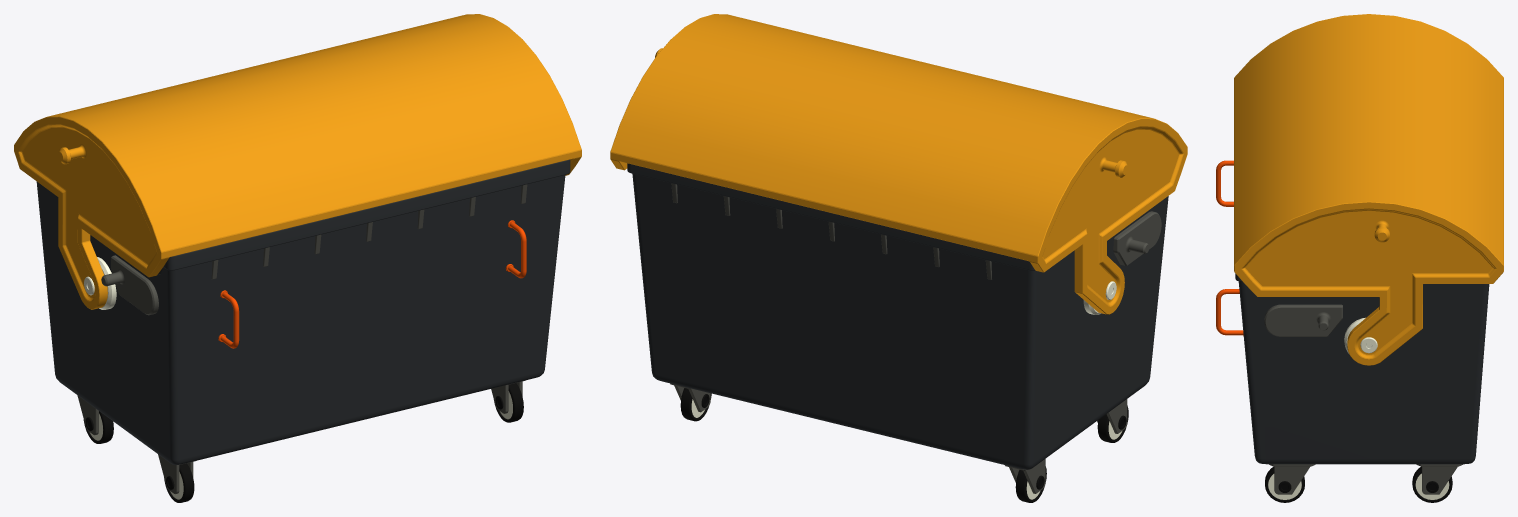
Rendered from bin_yellow.fbx.
3 renders of one model, left to right at view 1: azimuth 30°, elevation 25°; view 2: azimuth 150°, elevation 25°; view 3: azimuth 270°, elevation 25°, orthographic. The views are drawn at different scales.
Visible parts, largest first — view 1: bin_2; view 2: bin_2; view 3: bin_2.
Boxes of the visible parts, box(x1,y1,x2,y2) form: bin_2: box(14, 14, 581, 502); bin_2: box(610, 14, 1187, 502); bin_2: box(1216, 14, 1503, 502).
Bounding box in the file's own units: 188 × 136 × 111.
